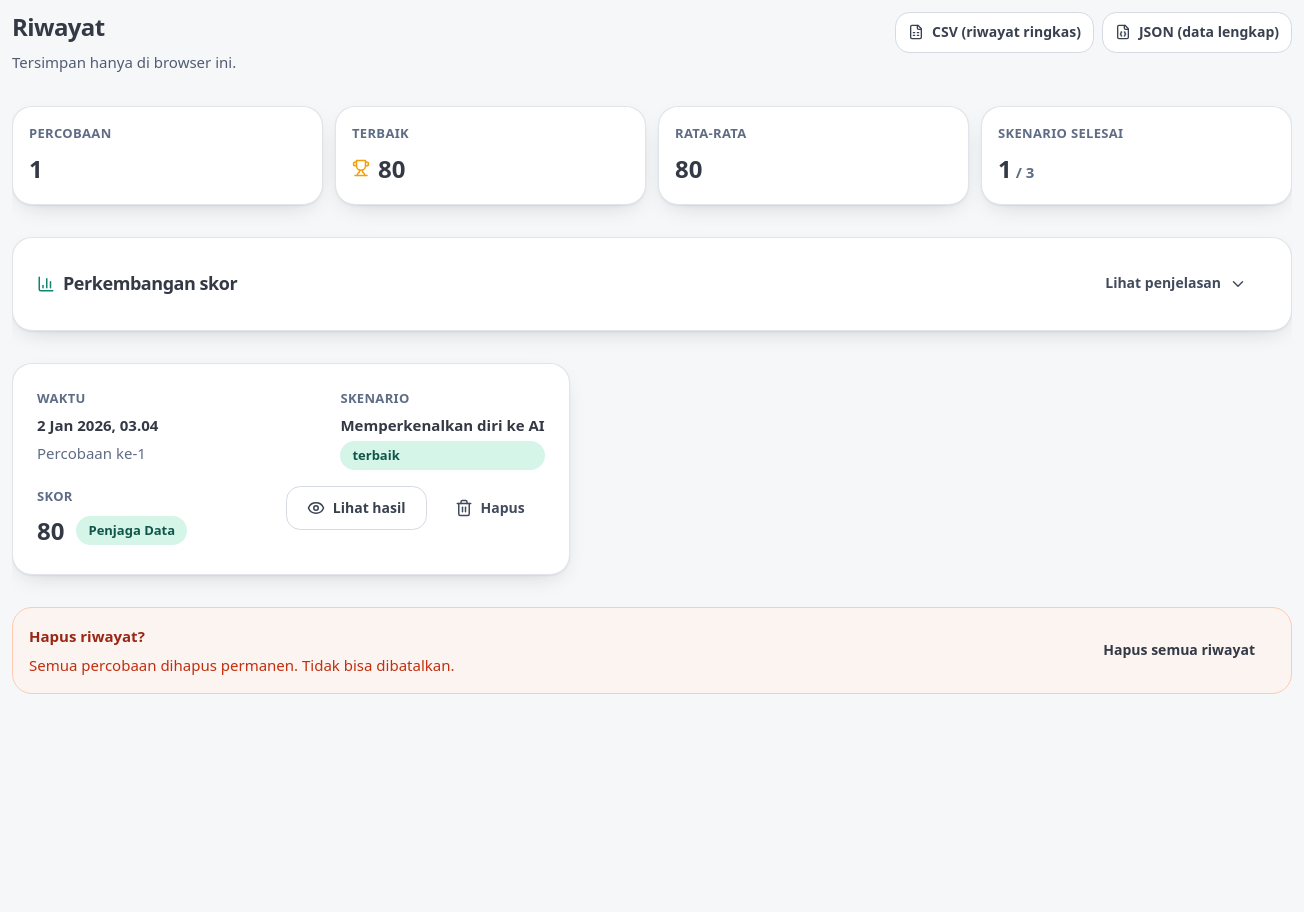
Scenario: HistoryPage — ekspor › melaporkan kegagalan bila proses ekspor CSV melempar error
Click the button "CSV (riwayat ringkas)" at (994,32), box [895,12,1094,53]
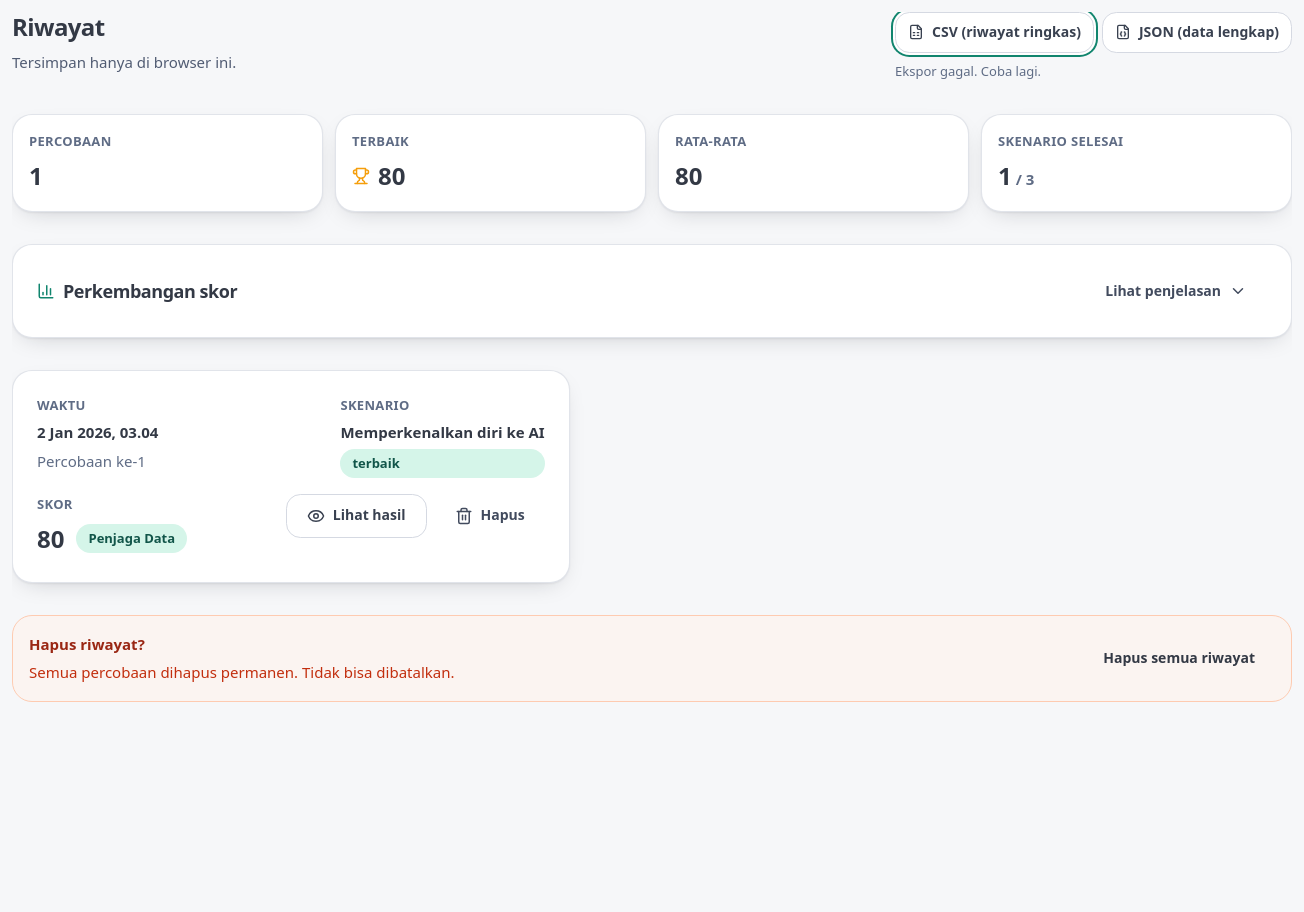
Expected: the text "Ekspor gagal. Coba lagi." is shown, [895,62,1041,80]
